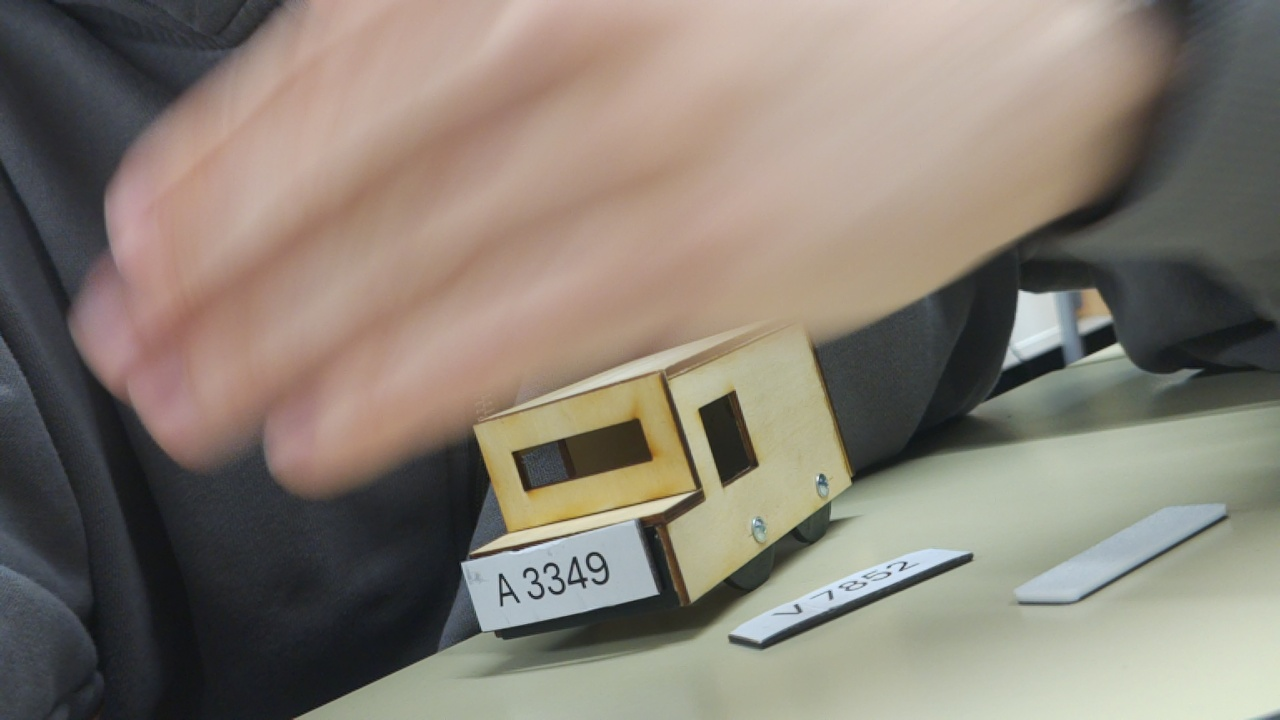license_plate: (450, 512, 669, 641)
